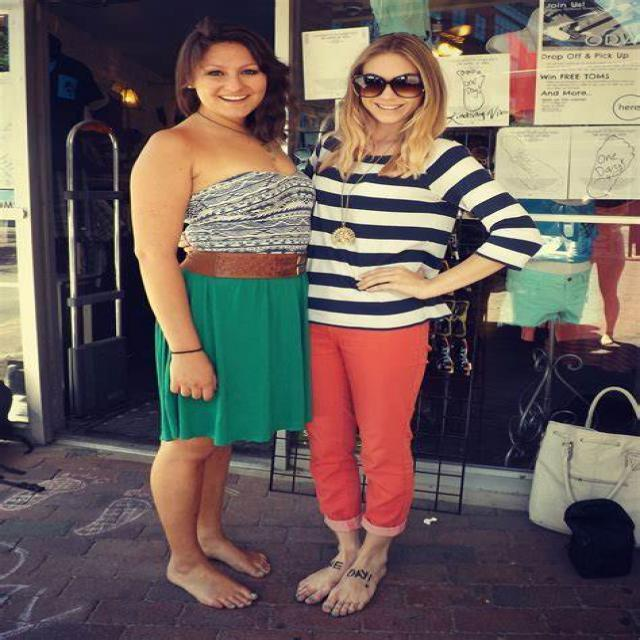No_BreathingApparatus: (193, 52, 261, 115)
No_Glove: (161, 348, 221, 405)
No_Goggles: (199, 61, 262, 84)
No_Helmet: (176, 21, 273, 62), (350, 32, 435, 70)
No_Shoe: (165, 527, 269, 606), (292, 542, 394, 617), (595, 327, 630, 350)
Person: (139, 24, 317, 601)
